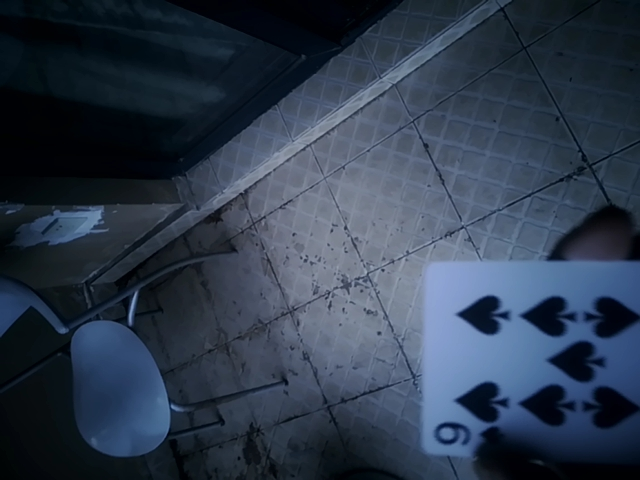ht 9: (415, 254, 635, 472)
